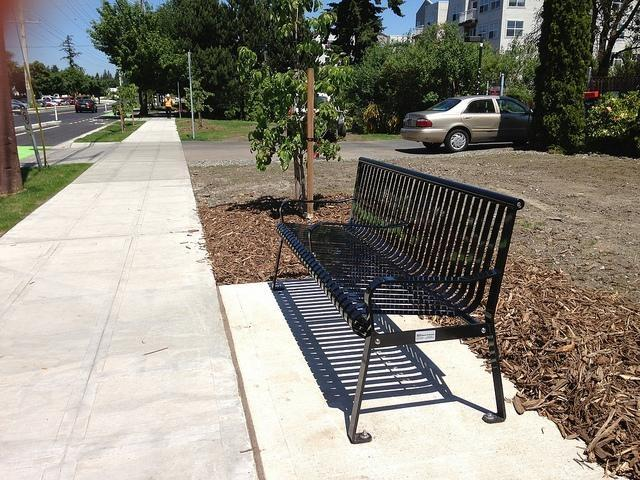car: (401, 95, 534, 153), (288, 93, 347, 143), (74, 98, 98, 114), (38, 96, 62, 106), (12, 100, 30, 110), (172, 99, 187, 108)
